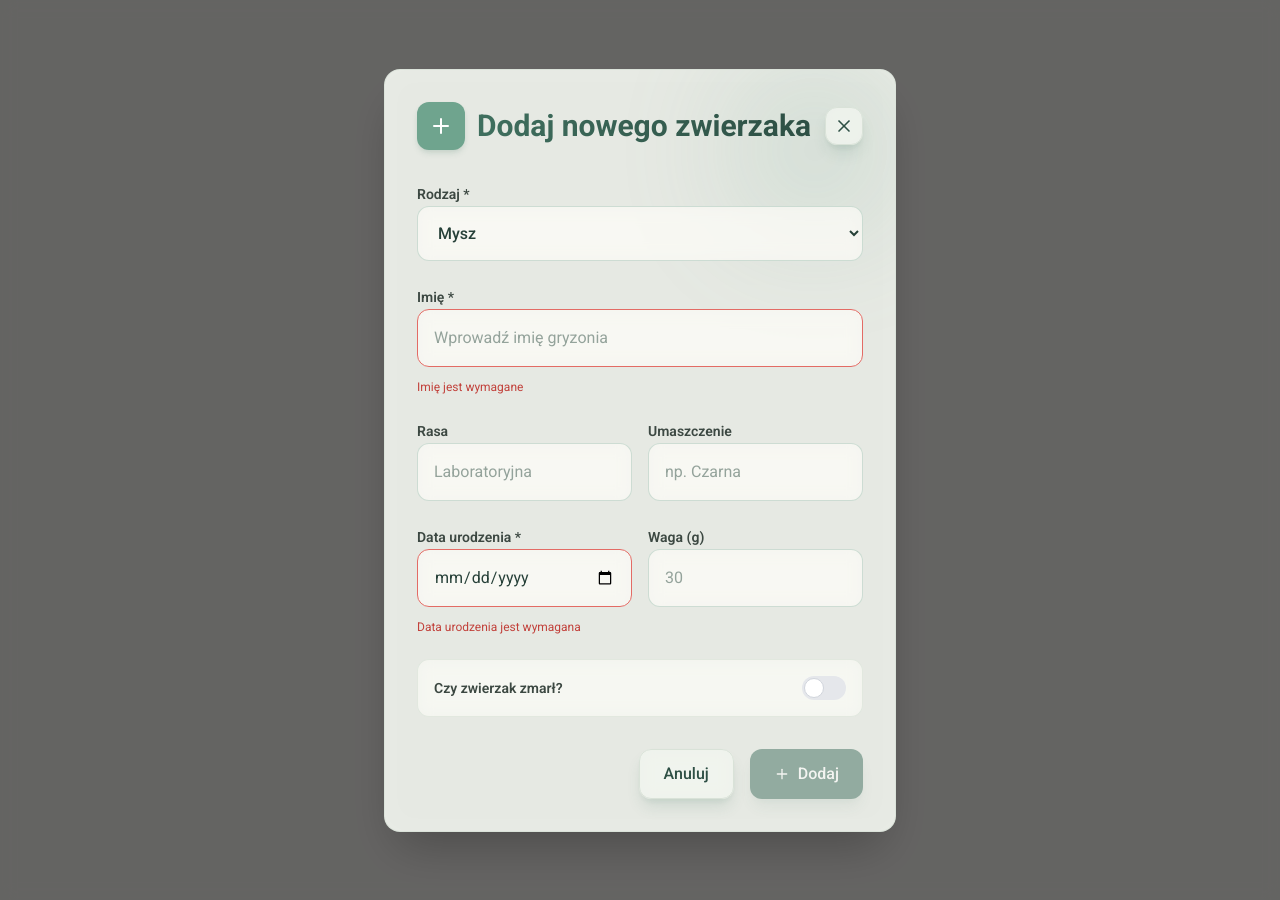
Scenario: AddPetModal Component › enables submit button when required fields are filled
// Fill required fields
Type "Mickey" into the field with placeholder "Wprowadź imię gryzonia". click: (640, 338)
box: left=417, top=308, right=863, bottom=366
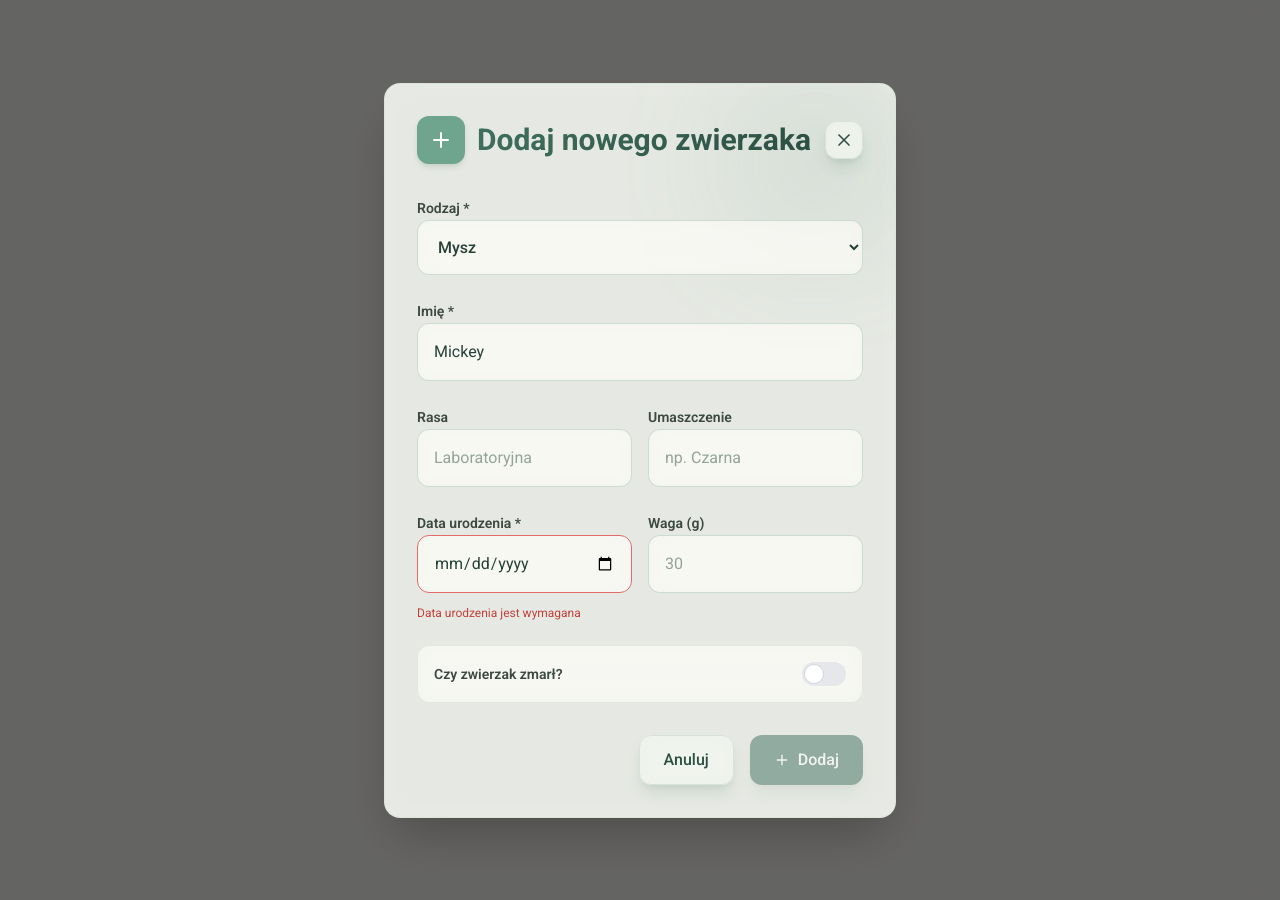
Type "2024-01-01" into the date field named "bornAt". click: (524, 564)
box: left=417, top=534, right=632, bottom=592
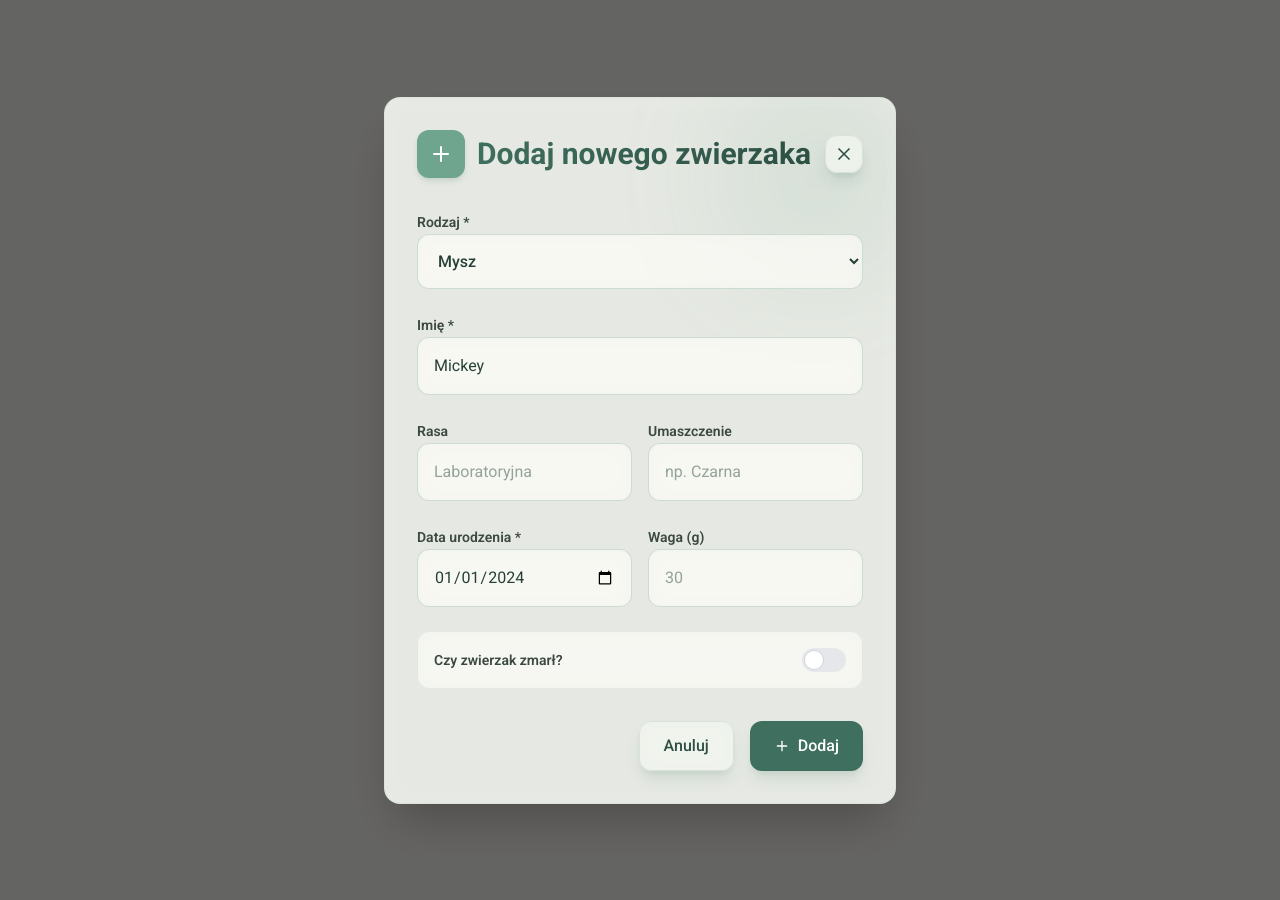
expect the button "Dodaj" is enabled: met, box left=750, top=720, right=863, bottom=770
